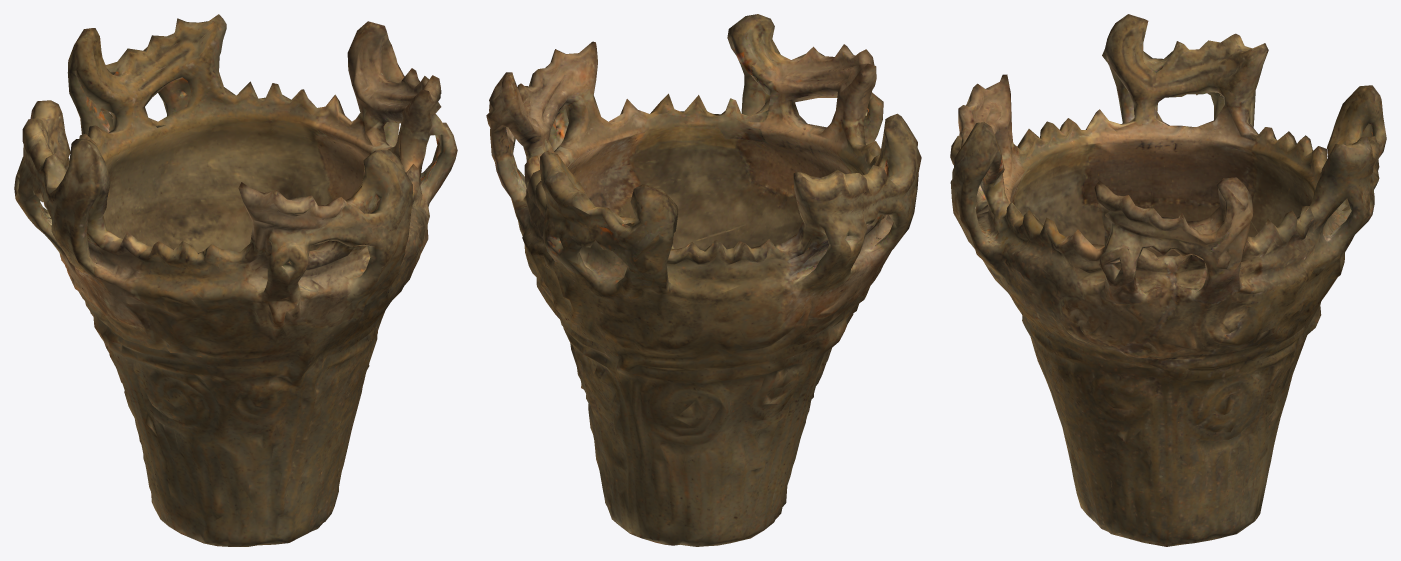
The picture shows the model from 3 angles, left to right: view 1: azimuth 30°, elevation 25°; view 2: azimuth 150°, elevation 25°; view 3: azimuth 270°, elevation 25°; orthographic projection. The views are drawn at different scales.
Parts seen in each view (by area): view 1: TJ0005_low; view 2: TJ0005_low; view 3: TJ0005_low.
Part boxes in pixels (box(x1,y1,x2,y2)): TJ0005_low: box(14, 14, 457, 546); TJ0005_low: box(486, 14, 921, 546); TJ0005_low: box(950, 14, 1386, 546).
Size of the model in its own units: 264 by 278 by 266.
Materials: 1 (1 with a texture image).
